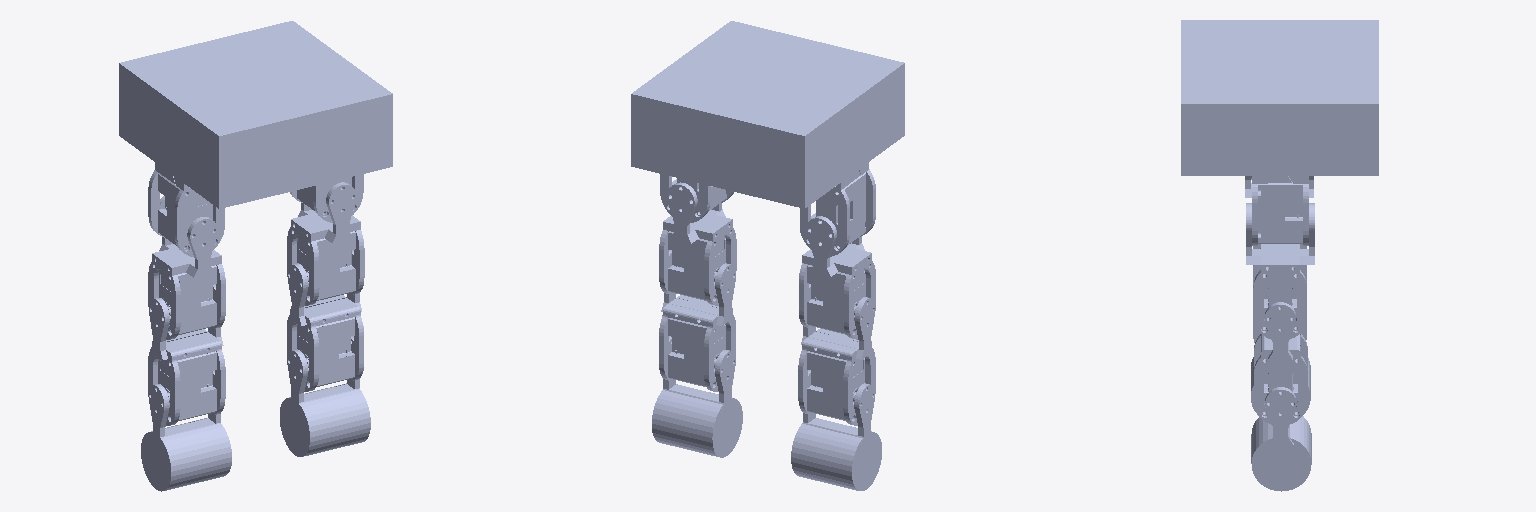
robot.urdf — Robot:
<?xml version="1.0" encoding="utf-8"?>
<!-- This URDF was automatically created by SolidWorks to URDF Exporter! Originally created by [author] ([email redacted]) 
     Commit Version: 1.6.0-4-g7f85cfe  Build Version: 1.6.7995.38578
     For more information, please see http://wiki.ros.org/sw_urdf_exporter -->
<robot
  name="Robot">
  <link
    name="body">
    <inertial>
      <origin
        xyz="-0.0500009669256068 -0.0500182495832519 0.0164726789535921"
        rpy="0 0 0" />
      <mass
        value="0.440618738122415" />
      <inertia
        ixx="0.000393480475203283"
        ixy="-1.68095672529994E-10"
        ixz="2.7571591832562E-09"
        iyy="0.000397942731290007"
        iyz="-5.33273059309594E-09"
        izz="0.000672030111990303" />
    </inertial>
    <visual>
      <origin
        xyz="0 0 0"
        rpy="0 0 0" />
      <geometry>
        <mesh
          filename="package://Robot/meshes/body.STL" />
      </geometry>
      <material
        name="">
        <color
          rgba="0.792156862745098 0.819607843137255 0.933333333333333 1" />
      </material>
    </visual>
    <collision>
      <origin
        xyz="0 0 0"
        rpy="0 0 0" />
      <geometry>
        <mesh
          filename="package://Robot/meshes/body.STL" />
      </geometry>
    </collision>
  </link>
  <link
    name="servo1r">
    <inertial>
      <origin
        xyz="2.9811117204518E-05 -0.0346910121894034 -0.000509969127238143"
        rpy="0 0 0" />
      <mass
        value="0.0213682467147692" />
      <inertia
        ixx="3.25958248565221E-06"
        ixy="-2.6663652965489E-09"
        ixz="-8.41577076327905E-11"
        iyy="1.04298724915849E-06"
        iyz="1.37857959164003E-09"
        izz="2.70162820946051E-06" />
    </inertial>
    <visual>
      <origin
        xyz="0 0 0"
        rpy="0 0 0" />
      <geometry>
        <mesh
          filename="package://Robot/meshes/servo1r.STL" />
      </geometry>
      <material
        name="">
        <color
          rgba="0.792156862745098 0.819607843137255 0.933333333333333 1" />
      </material>
    </visual>
    <collision>
      <origin
        xyz="0 0 0"
        rpy="0 0 0" />
      <geometry>
        <mesh
          filename="package://Robot/meshes/servo1r.STL" />
      </geometry>
    </collision>
  </link>
  <joint
    name="hipr"
    type="revolute">
    <origin
      xyz="-0.01 -0.0503 -0.028856"
      rpy="1.5708 0 0" />
    <parent
      link="body" />
    <child
      link="servo1r" />
    <axis
      xyz="0 0 -1" />
    <limit
      lower="-1.5708"
      upper="1.5708"
      effort="0.00003666666"
      velocity="6.3355" />
  </joint>
  <link
    name="servo2r">
    <inertial>
      <origin
        xyz="0.000308287765976075 -0.0349560457002559 -0.000227414690784293"
        rpy="0 0 0" />
      <mass
        value="0.0209718184775166" />
      <inertia
        ixx="3.14944361251738E-06"
        ixy="-2.66636529654846E-09"
        ixz="-8.2890928161181E-11"
        iyy="1.08188083399424E-06"
        iyz="1.37857959164005E-09"
        izz="2.6855511067329E-06" />
    </inertial>
    <visual>
      <origin
        xyz="0 0 0"
        rpy="0 0 0" />
      <geometry>
        <mesh
          filename="package://Robot/meshes/servo2r.STL" />
      </geometry>
      <material
        name="">
        <color
          rgba="0.792156862745098 0.819607843137255 0.933333333333333 1" />
      </material>
    </visual>
    <collision>
      <origin
        xyz="0 0 0"
        rpy="0 0 0" />
      <geometry>
        <mesh
          filename="package://Robot/meshes/servo2r.STL" />
      </geometry>
    </collision>
  </link>
  <joint
    name="kneer"
    type="revolute">
    <origin
      xyz="-0.0002445 -0.047416 -0.0005"
      rpy="0 0 0" />
    <parent
      link="servo1r" />
    <child
      link="servo2r" />
    <axis
      xyz="1 0 0" />
    <limit
      lower="-1.5708"
      upper="1.5708"
      effort="0.00003666666"
      velocity="6.3355" />
  </joint>
  <link
    name="servo3r">
    <inertial>
      <origin
        xyz="0.000499999999999957 -0.0318535758246183 -0.000278857670887457"
        rpy="0 0 0" />
      <mass
        value="0.0270492776837368" />
      <inertia
        ixx="2.99555999408966E-06"
        ixy="1.96538113542599E-21"
        ixz="1.098713610612E-13"
        iyy="4.01264032869482E-06"
        iyz="1.01539178048609E-22"
        izz="4.01992442491195E-06" />
    </inertial>
    <visual>
      <origin
        xyz="0 0 0"
        rpy="0 0 0" />
      <geometry>
        <mesh
          filename="package://Robot/meshes/servo3r.STL" />
      </geometry>
      <material
        name="">
        <color
          rgba="0.792156862745098 0.819607843137255 0.933333333333333 1" />
      </material>
    </visual>
    <collision>
      <origin
        xyz="0 0 0"
        rpy="0 0 0" />
      <geometry>
        <mesh
          filename="package://Robot/meshes/servo3r.STL" />
      </geometry>
    </collision>
  </link>
  <joint
    name="ankler"
    type="revolute">
    <origin
      xyz="0 -0.047416 -0.0002555"
      rpy="0 0 0" />
    <parent
      link="servo2r" />
    <child
      link="servo3r" />
    <axis
      xyz="1 0 0" />
    <limit
      lower="-1.5708"
      upper="1.5708"
      effort="0.00003666666"
      velocity="6.3355" />
  </joint>
  <link
    name="servo1l">
    <inertial>
      <origin
        xyz="2.98111172045978E-05 -0.0346910121894034 -0.000509969127238136"
        rpy="0 0 0" />
      <mass
        value="0.0213682467147692" />
      <inertia
        ixx="3.25958248565221E-06"
        ixy="-2.66636529654381E-09"
        ixz="-8.41577076327276E-11"
        iyy="1.04298724915849E-06"
        iyz="1.37857959163981E-09"
        izz="2.70162820946052E-06" />
    </inertial>
    <visual>
      <origin
        xyz="0 0 0"
        rpy="0 0 0" />
      <geometry>
        <mesh
          filename="package://Robot/meshes/servo1l.STL" />
      </geometry>
      <material
        name="">
        <color
          rgba="0.792156862745098 0.819607843137255 0.933333333333333 1" />
      </material>
    </visual>
    <collision>
      <origin
        xyz="0 0 0"
        rpy="0 0 0" />
      <geometry>
        <mesh
          filename="package://Robot/meshes/servo1l.STL" />
      </geometry>
    </collision>
  </link>
  <joint
    name="hipl"
    type="revolute">
    <origin
      xyz="-0.09 -0.0507 -0.028856"
      rpy="1.5708 0 0" />
    <parent
      link="body" />
    <child
      link="servo1l" />
    <axis
      xyz="0 0 -1" />
    <limit
      lower="-1.5708"
      upper="1.5708"
      effort="0.00003666666"
      velocity="6.3355" />
  </joint>
  <link
    name="servo2l">
    <inertial>
      <origin
        xyz="0.000308287765976134 -0.0349560457002559 -0.000227414690784286"
        rpy="0 0 0" />
      <mass
        value="0.0209718184775166" />
      <inertia
        ixx="3.14944361251738E-06"
        ixy="-2.66636529654411E-09"
        ixz="-8.28909281612219E-11"
        iyy="1.08188083399425E-06"
        iyz="1.3785795916394E-09"
        izz="2.6855511067329E-06" />
    </inertial>
    <visual>
      <origin
        xyz="0 0 0"
        rpy="0 0 0" />
      <geometry>
        <mesh
          filename="package://Robot/meshes/servo2l.STL" />
      </geometry>
      <material
        name="">
        <color
          rgba="0.792156862745098 0.819607843137255 0.933333333333333 1" />
      </material>
    </visual>
    <collision>
      <origin
        xyz="0 0 0"
        rpy="0 0 0" />
      <geometry>
        <mesh
          filename="package://Robot/meshes/servo2l.STL" />
      </geometry>
    </collision>
  </link>
  <joint
    name="kneel"
    type="revolute">
    <origin
      xyz="-0.0002445 -0.047416 -0.0005"
      rpy="0 0 0" />
    <parent
      link="servo1l" />
    <child
      link="servo2l" />
    <axis
      xyz="1 0 0" />
    <limit
      lower="-1.5708"
      upper="1.5708"
      effort="0.00003666666"
      velocity="6.3355" />
  </joint>
  <link
    name="servo3l">
    <inertial>
      <origin
        xyz="0.000500000000000042 -0.0318535758246183 -0.000278857670887485"
        rpy="0 0 0" />
      <mass
        value="0.0270492776837368" />
      <inertia
        ixx="2.99555999408966E-06"
        ixy="-5.62482816536059E-22"
        ixz="1.09871360789062E-13"
        iyy="4.01264032869482E-06"
        iyz="-1.7293200504976E-23"
        izz="4.01992442491194E-06" />
    </inertial>
    <visual>
      <origin
        xyz="0 0 0"
        rpy="0 0 0" />
      <geometry>
        <mesh
          filename="package://Robot/meshes/servo3l.STL" />
      </geometry>
      <material
        name="">
        <color
          rgba="0.792156862745098 0.819607843137255 0.933333333333333 1" />
      </material>
    </visual>
    <collision>
      <origin
        xyz="0 0 0"
        rpy="0 0 0" />
      <geometry>
        <mesh
          filename="package://Robot/meshes/servo3l.STL" />
      </geometry>
    </collision>
  </link>
  <joint
    name="anklel"
    type="revolute">
    <origin
      xyz="0 -0.047416 -0.0002555"
      rpy="0 0 0" />
    <parent
      link="servo2l" />
    <child
      link="servo3l" />
    <axis
      xyz="1 0 0" />
    <limit
      lower="-1.5708"
      upper="1.5708"
      effort="0.00003666666"
      velocity="6.3355" />
  </joint>
</robot>

--- What the picture shows (computed from the rendered views, not written in the file) ---
Views: 3 orthographic renders of the robot side by side, from view 1: azimuth 30°, elevation 25°; view 2: azimuth 150°, elevation 25°; view 3: azimuth 270°, elevation 25°.
Robot: Robot — 7 links, 6 joints (6 revolute); root link body; default pose: every joint at zero.
Links seen in each view (by area): view 1: body, servo1l, servo2l, servo1r, servo2r, servo3r, servo3l; view 2: body, servo2l, servo2r, servo1r, servo1l, servo3r, servo3l; view 3: body, servo3r, servo1r, servo2r.
Boxes of the visible links, x1,y1,x2,y2 form: body: (119, 21, 392, 256); servo1l: (148, 196, 225, 339); servo2l: (148, 284, 225, 425); servo1r: (287, 182, 364, 305); servo2r: (287, 250, 363, 391); servo3r: (280, 336, 370, 456); servo3l: (141, 370, 231, 491); body: (631, 21, 904, 256); servo2l: (798, 284, 875, 425); servo2r: (659, 250, 735, 391); servo1r: (659, 182, 736, 305); servo1l: (799, 216, 875, 339); servo3r: (652, 336, 742, 457); servo3l: (791, 370, 881, 490); body: (1181, 20, 1378, 245); servo3r: (1251, 387, 1311, 491); servo1r: (1246, 203, 1314, 339); servo2r: (1254, 302, 1307, 424).
Size in the robot's own frame: 0.115 by 0.1 by 0.2126 metres.
Meshes: 7 distinct files referenced, 7 mesh visuals loaded (7 binary STL).
